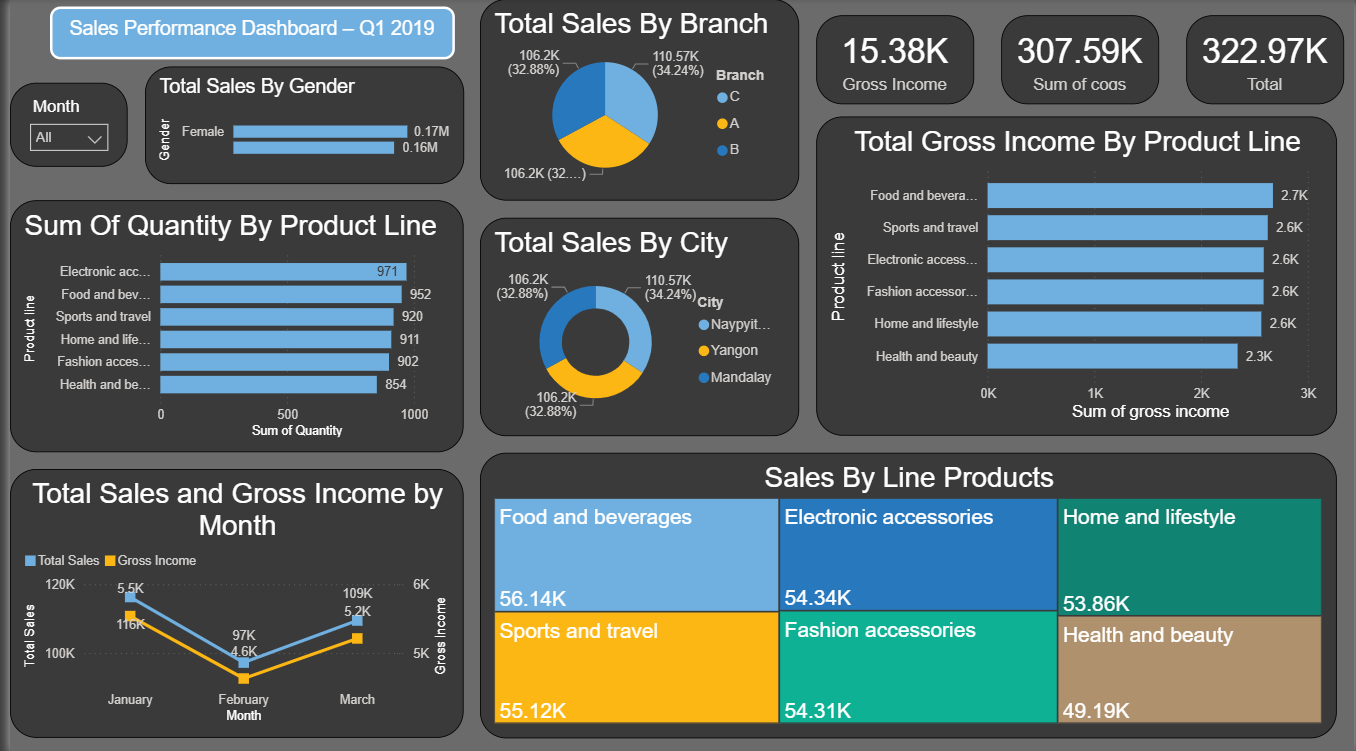

What the dashboard file says about the page in this screenshot:
{"tool":"powerbi","page":{"name":"Dashboard","canvas":[1280,720],"ordinal":0},"visuals":[{"type":"card","fields":{"Values":["Sum(supermarket_sales.gross income)"]},"box":[768,16,150,85],"z":0},{"type":"card","fields":{"Values":["Sum(supermarket_sales.Total)"]},"box":[1120,16,150,85],"z":1000},{"type":"card","fields":{"Values":["Sum(supermarket_sales.cogs)"]},"box":[944,16,150,85],"z":2000},{"type":"pieChart","title":"Total Sales By Branch","fields":{"Category":["supermarket_sales.Branch"],"Y":["Sum(supermarket_sales.Total)"]},"box":[448,0,304,192],"z":3000},{"type":"donutChart","title":"Total Sales By City","fields":{"Category":["supermarket_sales.City"],"Y":["Sum(supermarket_sales.Total)"]},"box":[448,208,304,208],"z":4000},{"type":"treemap","title":" Sales By Line Products","fields":{"Group":["supermarket_sales.Product line"],"Values":["Sum(supermarket_sales.Total)"]},"box":[448,432,816,272],"z":5000},{"type":"slicer","fields":{"Values":["supermarket_sales.Date.Variation.Date Hierarchy.Month"]},"box":[0,80,112,80],"z":7000},{"type":"lineChart","fields":{"Category":["supermarket_sales.Date.Variation.Date Hierarchy.Month"],"Y":["Sum(supermarket_sales.Total)"],"Y2":["Sum(supermarket_sales.gross income)"]},"box":[0,448,432,256],"z":8000},{"type":"clusteredBarChart","title":"Total Gross Income By Product Line","fields":{"Category":["supermarket_sales.Product line"],"Y":["Sum(supermarket_sales.gross income)"]},"box":[768,112,496,304],"z":9000},{"type":"clusteredBarChart","title":"Sum Of Quantity By Product Line","fields":{"Category":["supermarket_sales.Product line"],"Y":["Sum(supermarket_sales.Quantity)"]},"box":[0,192,432,240],"z":10000},{"type":"textbox","box":[38.1,7.1,385.7,50],"z":11000},{"type":"clusteredBarChart","title":"Total Sales By Gender","fields":{"Category":["supermarket_sales.Gender"],"Y":["Sum(supermarket_sales.Total)"]},"box":[128,64,304,112],"z":12000}]}

Visuals, with their boxes in screenshot pixels (x1, y1, x2, y2), scaled from the page's 1280x720 canvas onto the 1356x751 screenshot:
card - Sum(supermarket_sales.gross income): <box>814,17,973,105</box>
card - Sum(supermarket_sales.Total): <box>1186,17,1345,105</box>
card - Sum(supermarket_sales.cogs): <box>1000,17,1159,105</box>
"Total Sales By Branch" pieChart: <box>475,0,797,200</box>
"Total Sales By City" donutChart: <box>475,217,797,434</box>
" Sales By Line Products" treemap: <box>475,451,1339,734</box>
slicer - supermarket_sales.Date.Variation.Date Hierarchy.Month: <box>0,83,119,167</box>
lineChart - supermarket_sales.Date.Variation.Date Hierarchy.Month x Sum(supermarket_sales.Total): <box>0,467,458,734</box>
"Total Gross Income By Product Line" clusteredBarChart: <box>814,117,1339,434</box>
"Sum Of Quantity By Product Line" clusteredBarChart: <box>0,200,458,451</box>
textbox: <box>40,7,449,60</box>
"Total Sales By Gender" clusteredBarChart: <box>136,67,458,184</box>
